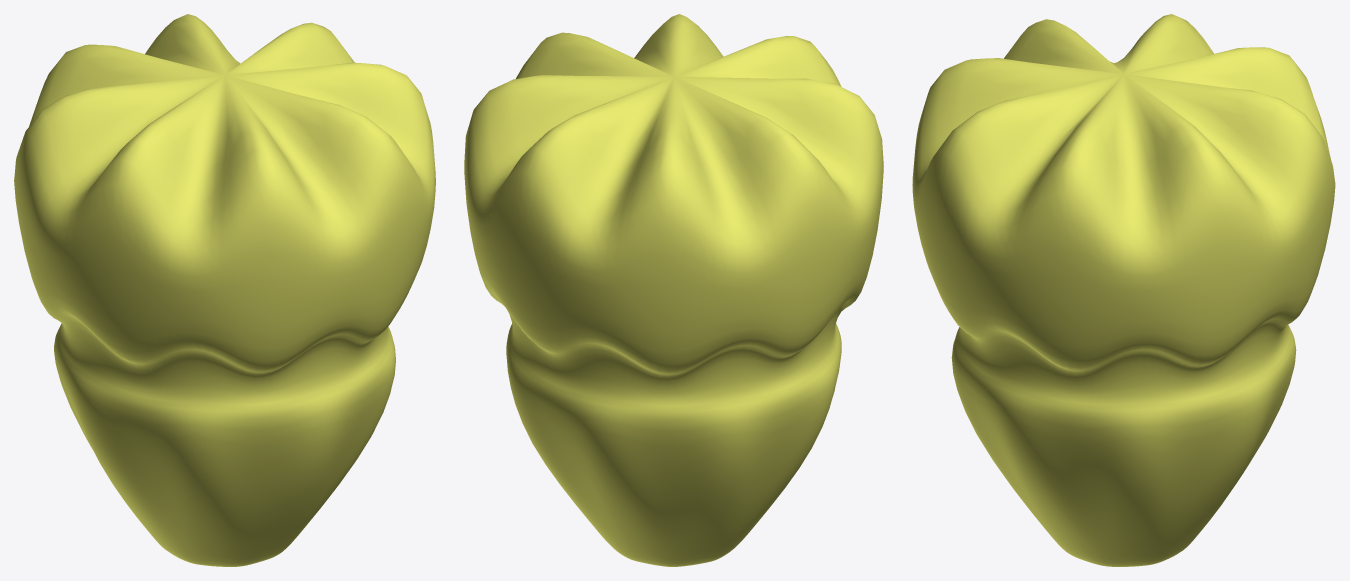
Rendered from fruit.fbx.
The picture shows the model from 3 angles, left to right: view 1: azimuth 30°, elevation 25°; view 2: azimuth 150°, elevation 25°; view 3: azimuth 270°, elevation 25°; orthographic projection.
Parts seen in each view (by area): view 1: fruit_final; view 2: fruit_final; view 3: fruit_final.
Boxes of the visible parts, x1,y1,x2,y2 form: fruit_final: [14, 14, 435, 566]; fruit_final: [464, 14, 883, 566]; fruit_final: [912, 14, 1335, 566].
Bounding box in the file's own units: 197 × 241 × 197.
